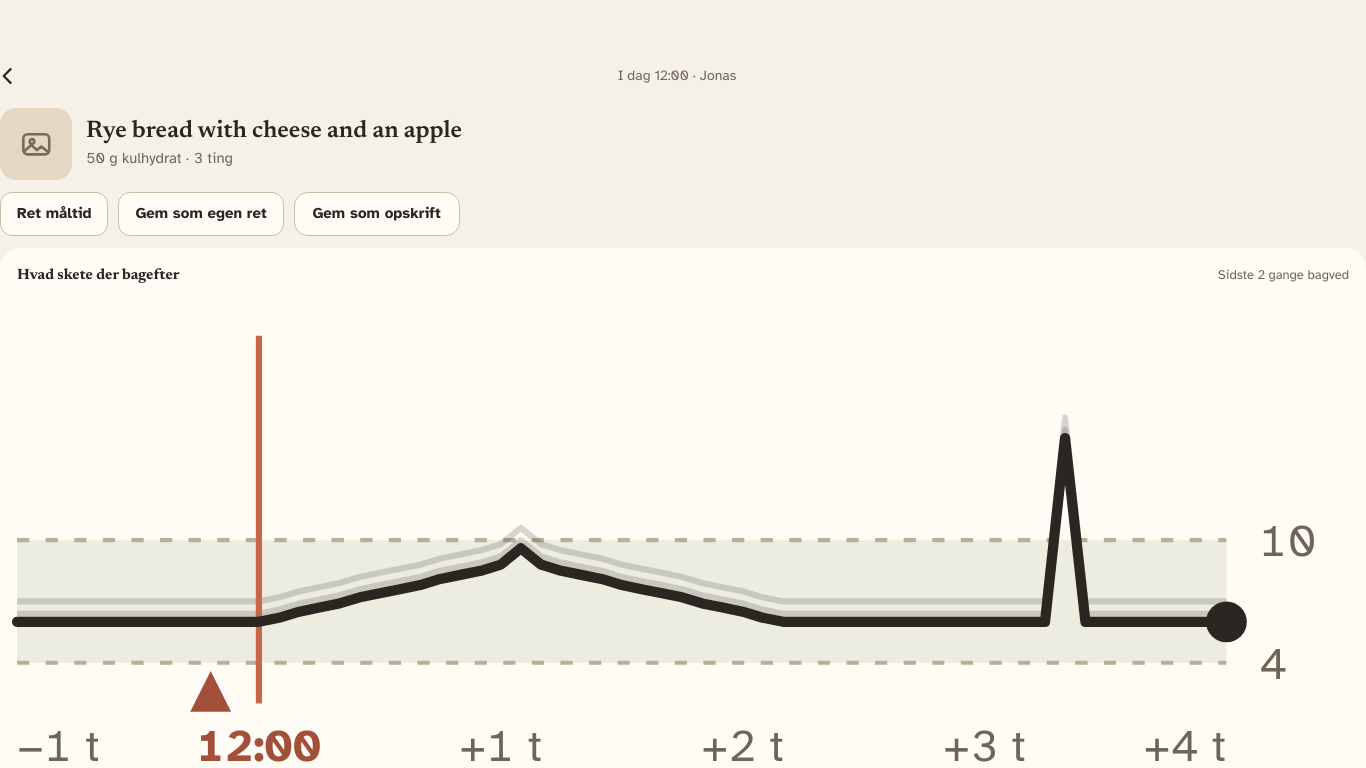
Test: edit and delete inside meal detail › phone: edits current portions, typed carbs, time and note and refreshes detail without navigation
Click the button "Ret måltid" at (54, 214), box [0, 192, 108, 236]
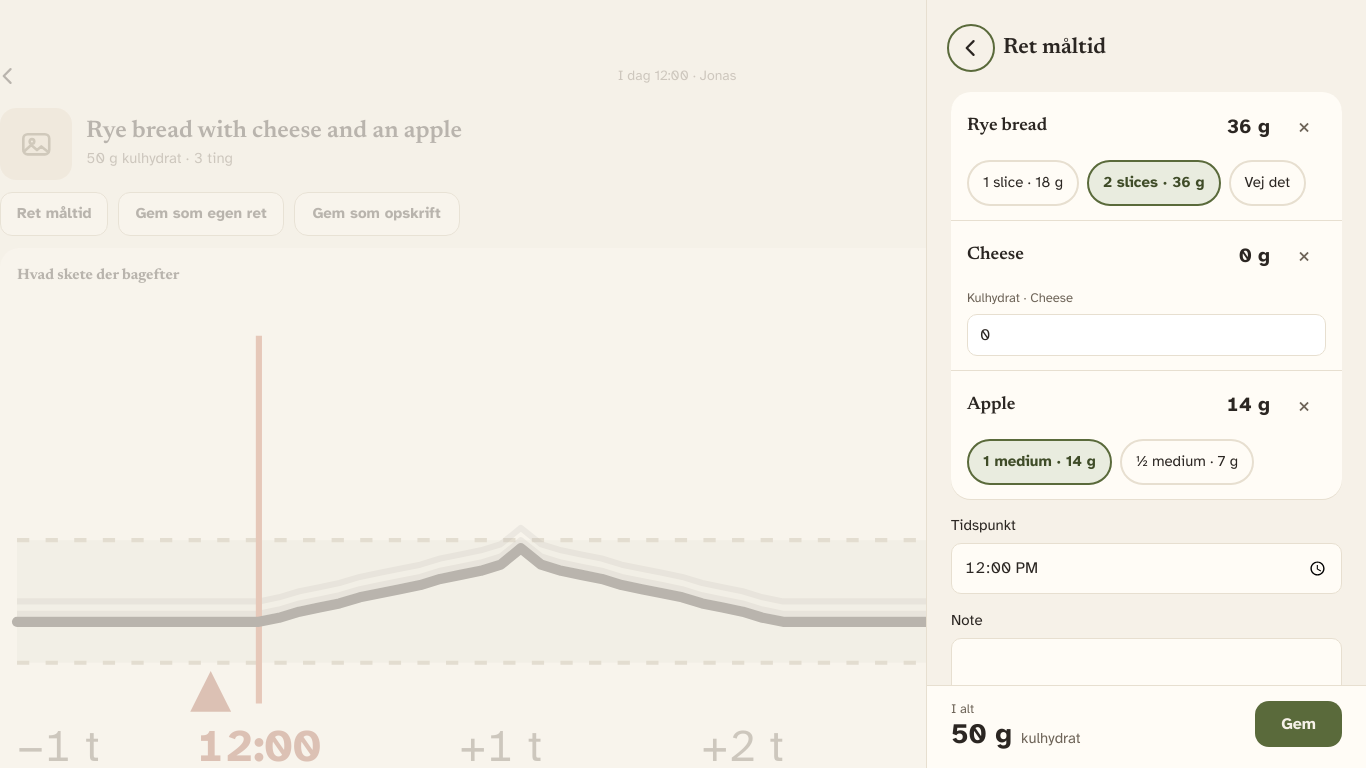
expect the button named "Tilbage" is shown: met, box [951, 28, 991, 68]
Click the button "½ medium · 7 g" at (1187, 462), box [1120, 439, 1254, 485]
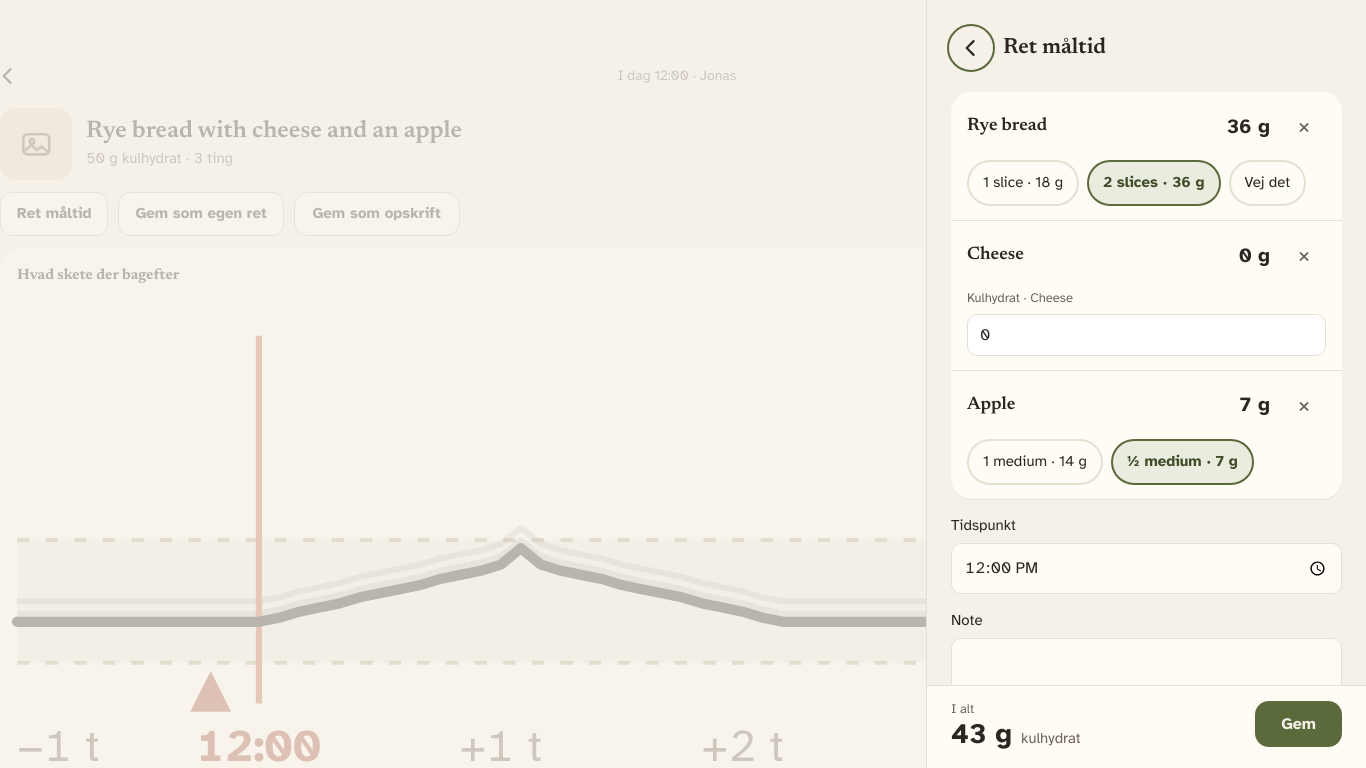
Replace the text in the number field labelled "Kulhydrat · Cheese" with "2" at (1146, 335), box [967, 314, 1326, 356]
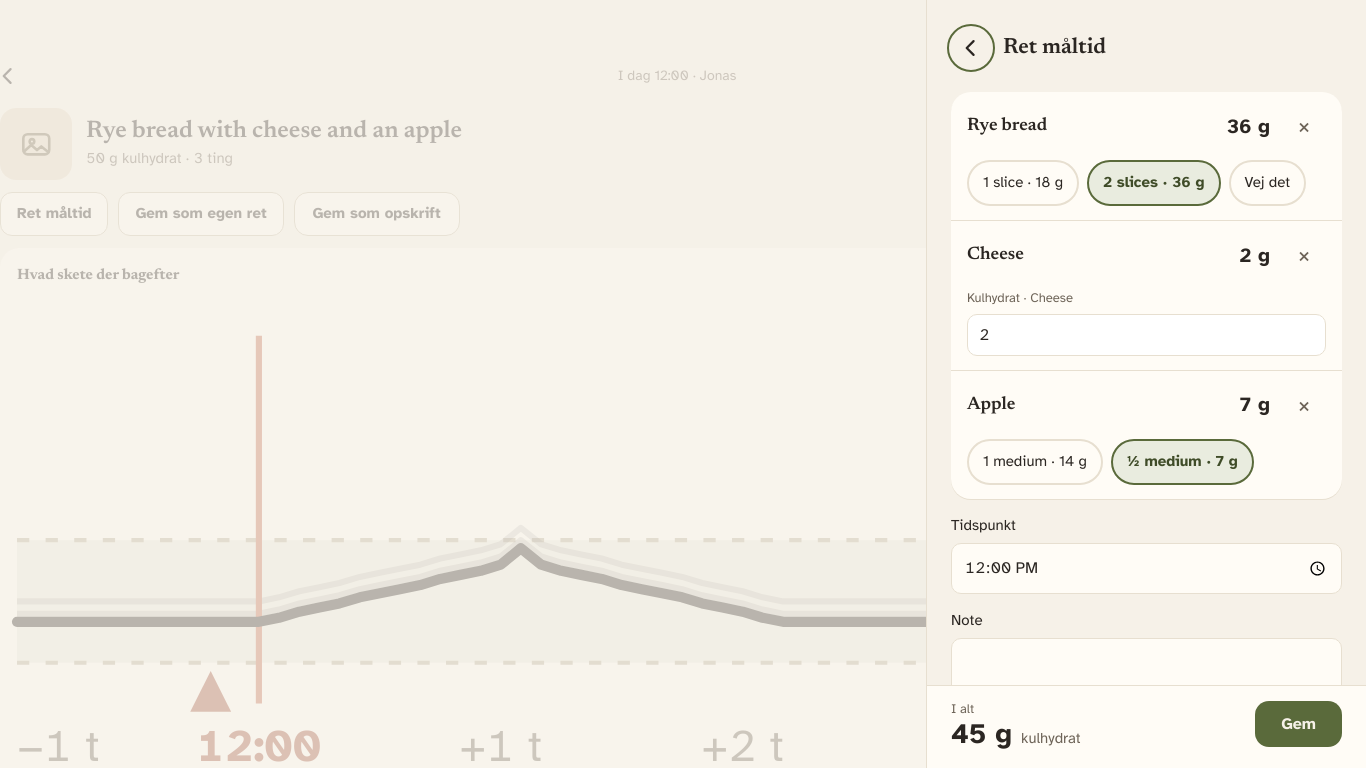
Replace the text in the time field labelled "Tidspunkt" with "11:45" at (1146, 568), box [951, 543, 1342, 594]
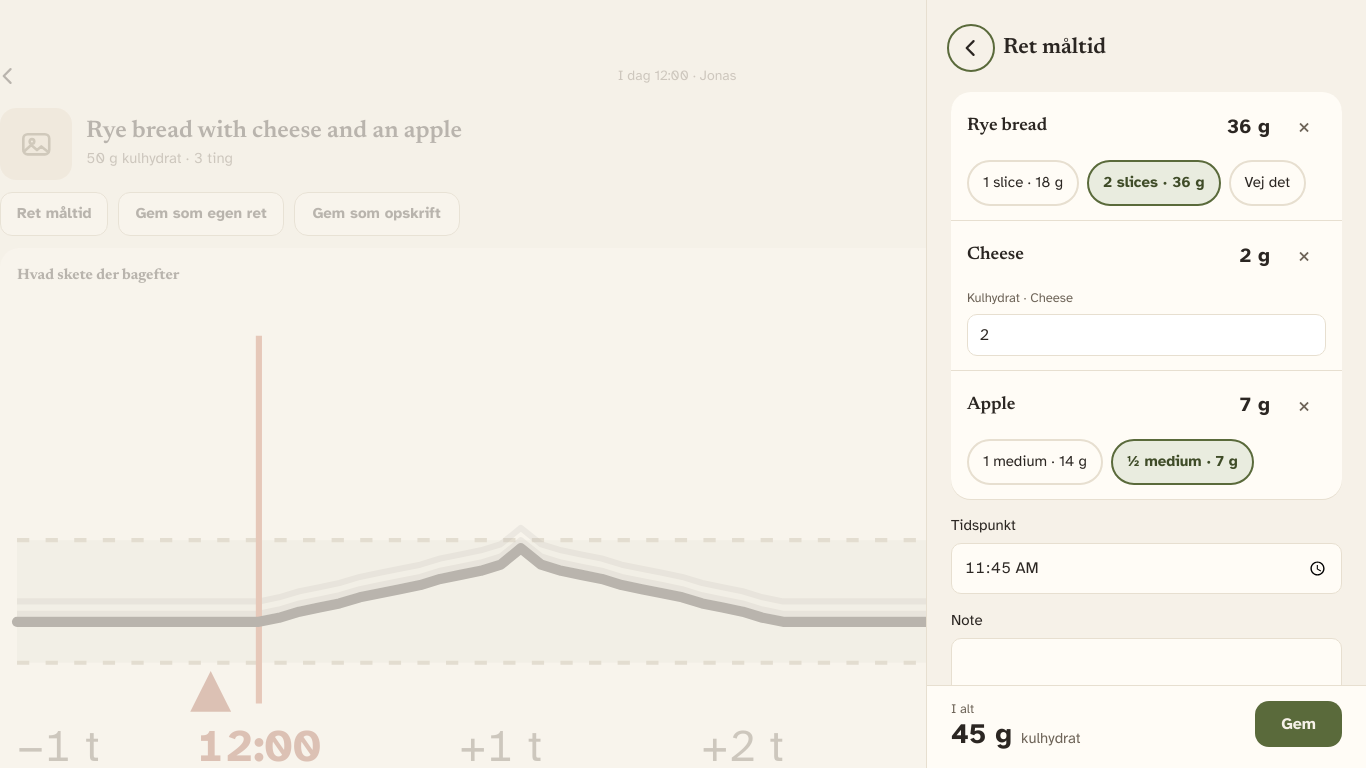
Type "At the park" into the text box labelled "Note" at (1146, 678), box [951, 638, 1342, 718]
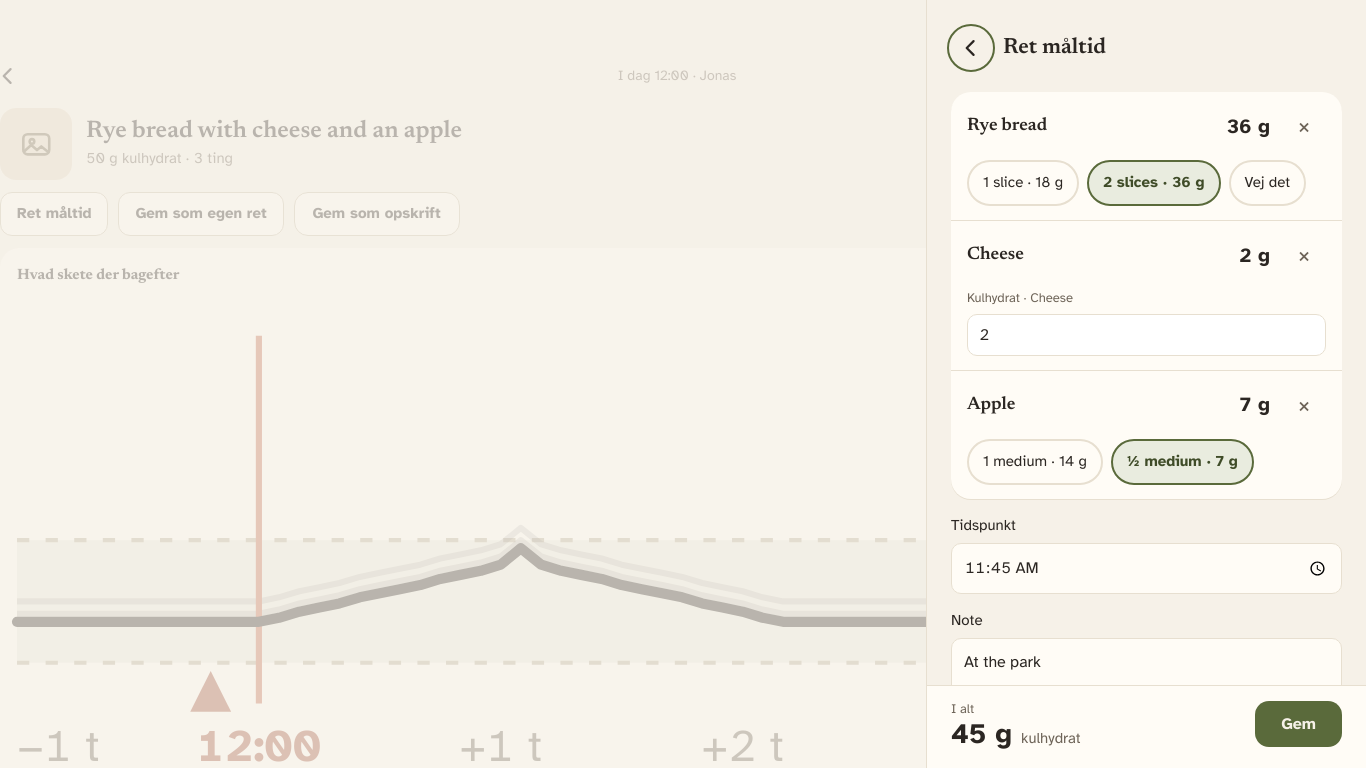
expect the element with test id "total-bar" shows "45 g": met, box [951, 716, 1012, 751]
Click the button "Gem" at (1299, 724), box [1255, 701, 1342, 747]
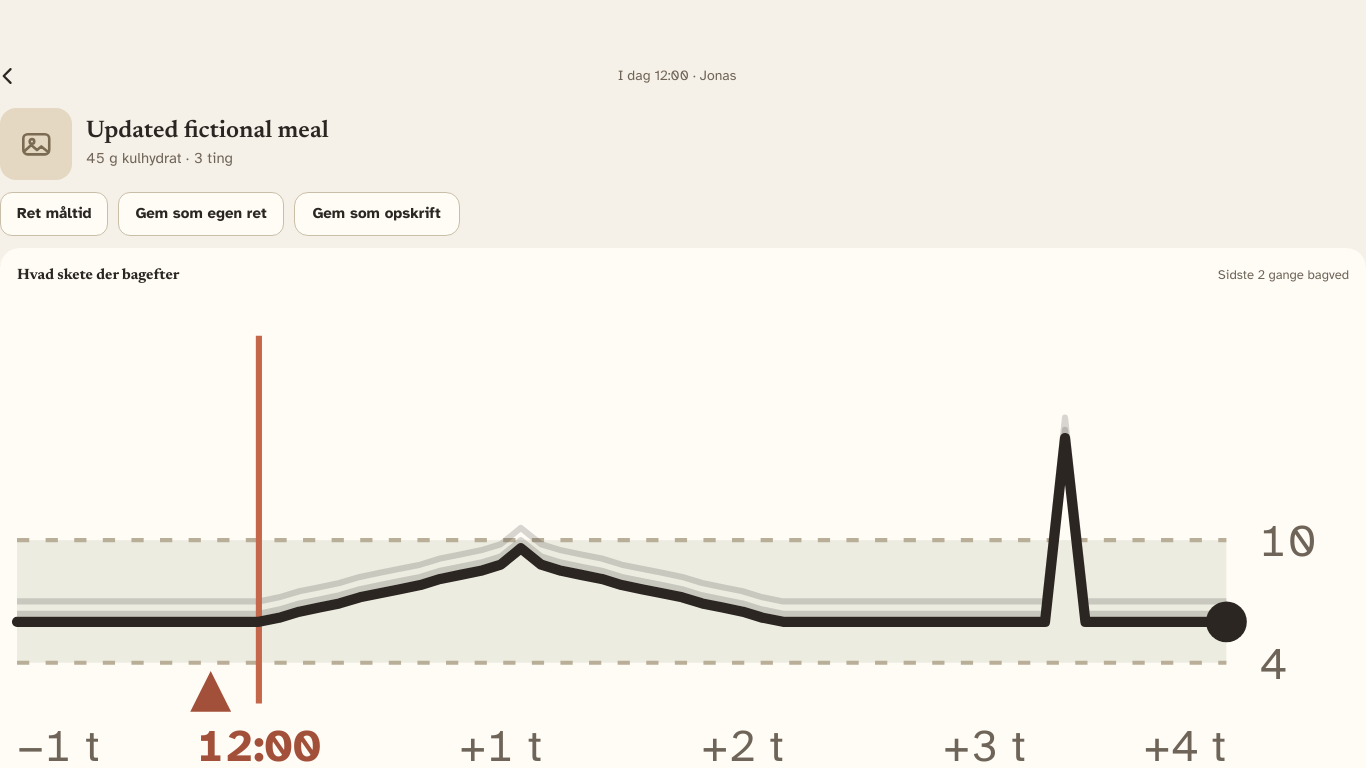
expect the dialog is gone: met
expect the heading "Updated fictional meal" is shown: met, box [86, 118, 329, 144]
